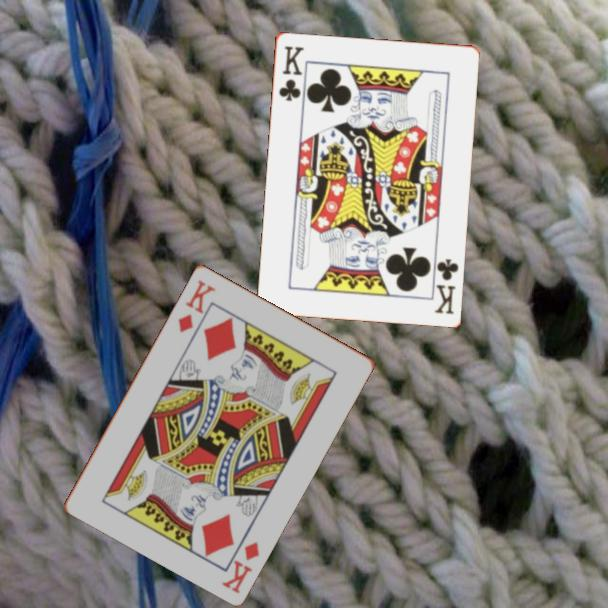c13: (275, 42, 306, 104), (431, 255, 461, 317)
d13: (174, 276, 219, 335), (218, 537, 262, 596)
